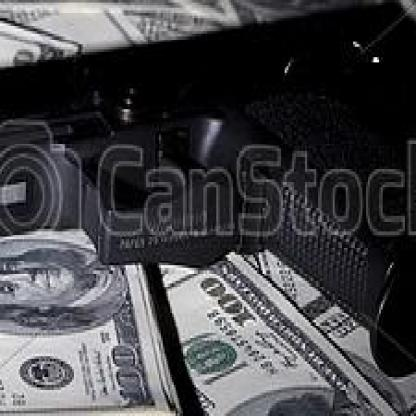gun: (0, 0, 414, 382)
